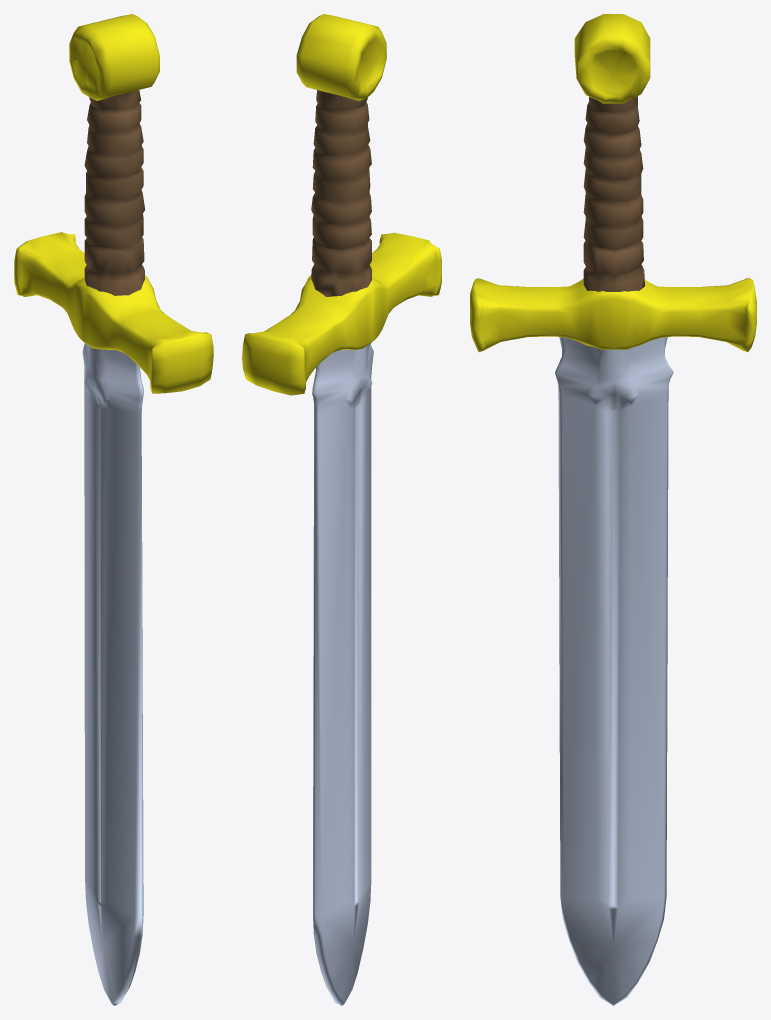
File: Sword.fbx
3 views of the same model, side by side, from view 1: azimuth 30°, elevation 25°; view 2: azimuth 150°, elevation 25°; view 3: azimuth 270°, elevation 25° (orthographic).
Parts seen in each view (by area): view 1: Edge; view 2: Edge; view 3: Edge.
Part boxes in pixels (x1,y1,x2,y2): Edge: [14, 14, 213, 1005]; Edge: [242, 14, 441, 1005]; Edge: [470, 14, 756, 1005].
Bounding box in the file's own units: 0.0771 × 0.3105 × 1.17.
